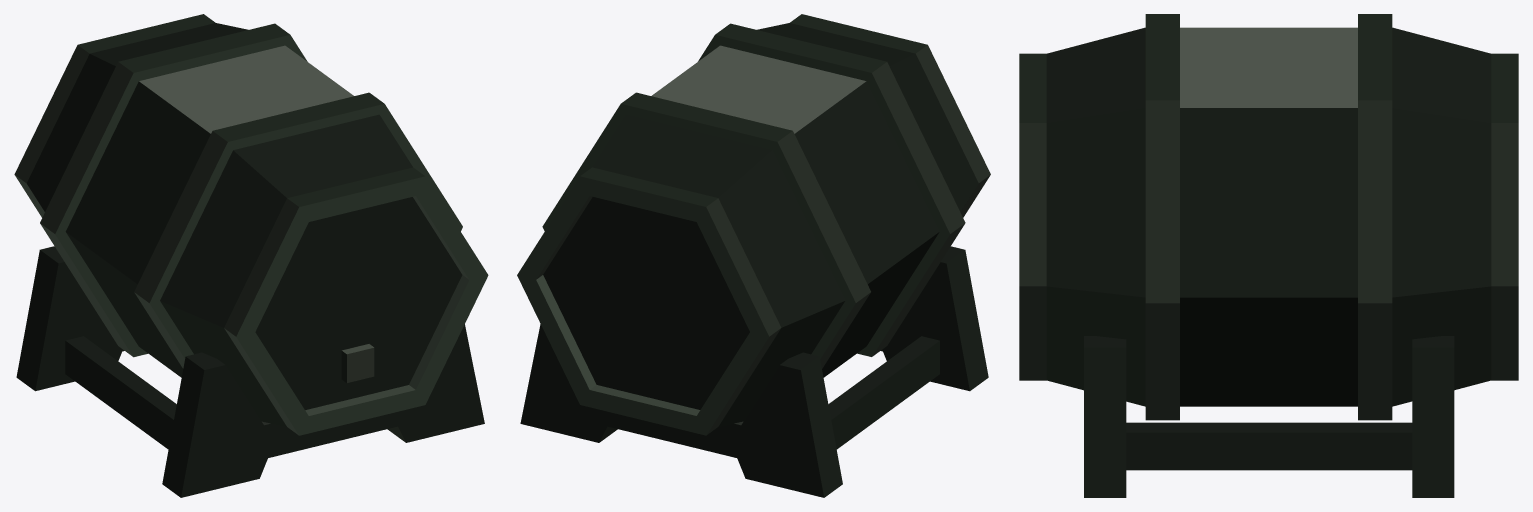
Rendered from SF_Prop_Barrel_Ale_02.glb.
3 views of the same model, side by side, from view 1: azimuth 30°, elevation 25°; view 2: azimuth 150°, elevation 25°; view 3: azimuth 270°, elevation 25° (orthographic). The views are drawn at different scales.
Visible parts, largest first — view 1: SF_Prop_Barrel_Ale_02; view 2: SF_Prop_Barrel_Ale_02; view 3: SF_Prop_Barrel_Ale_02.
Part boxes in pixels (x1,y1,x2,y2): SF_Prop_Barrel_Ale_02: (14,14,488,497); SF_Prop_Barrel_Ale_02: (517,14,990,497); SF_Prop_Barrel_Ale_02: (1019,14,1518,497).
Size of the model in its own units: 0.0138 by 0.0134 by 0.017.
Materials: 1 (1 with a texture image).
